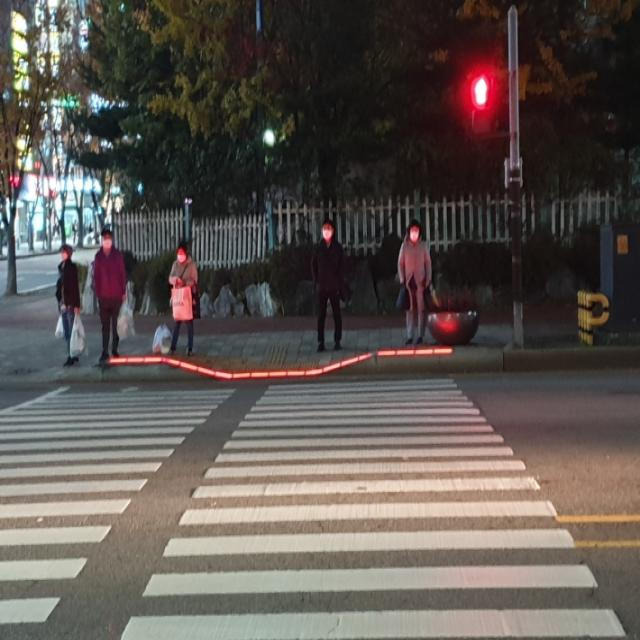Not go: (471, 72, 496, 111)
